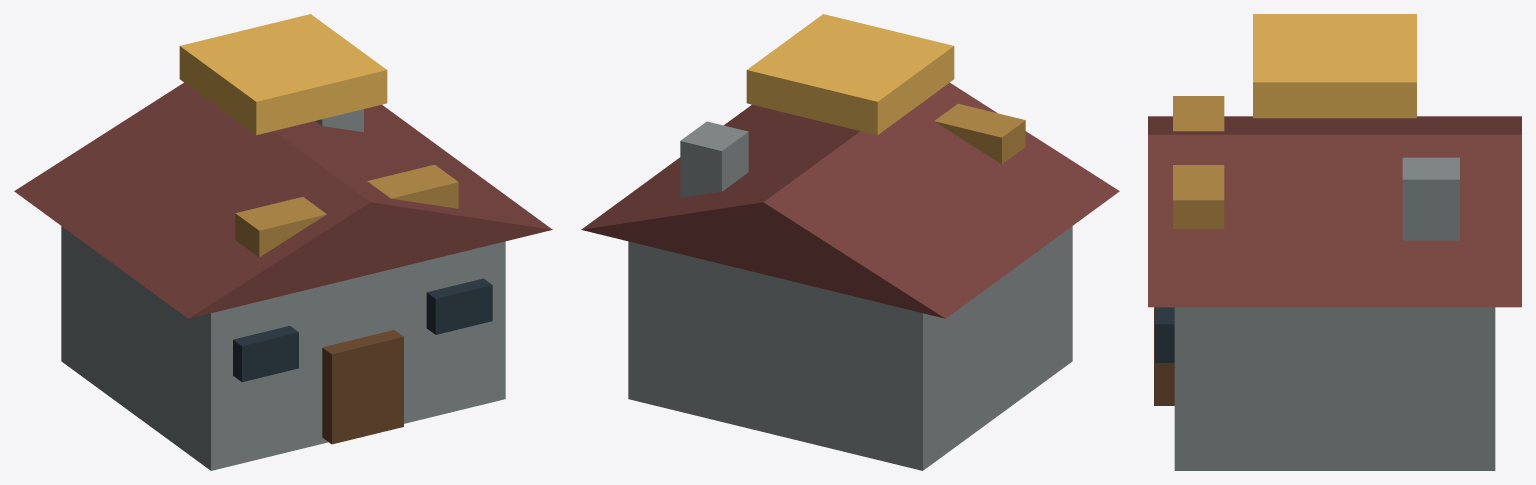
The model's file is civilian.obj.
The picture shows the model from 3 angles, left to right: view 1: azimuth 30°, elevation 25°; view 2: azimuth 150°, elevation 25°; view 3: azimuth 270°, elevation 25°; orthographic projection. The views are drawn at different scales.
Visible parts, largest first — view 1: civilian; view 2: civilian; view 3: civilian.
Boxes of the visible parts, left/top/right/bottom form: civilian: left=14, top=14, right=552, bottom=470; civilian: left=581, top=14, right=1119, bottom=470; civilian: left=1148, top=14, right=1521, bottom=470.
Bounding box in the file's own units: 2.28 × 1.93 × 1.89.
